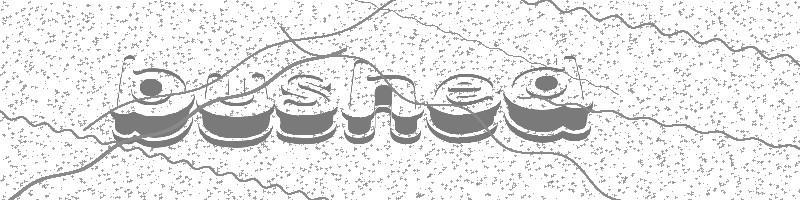b: (109, 53, 195, 149)
d: (504, 55, 593, 145)
e: (426, 72, 501, 144)
h: (342, 60, 424, 145)
s: (276, 74, 337, 144)
u: (197, 72, 275, 149)
